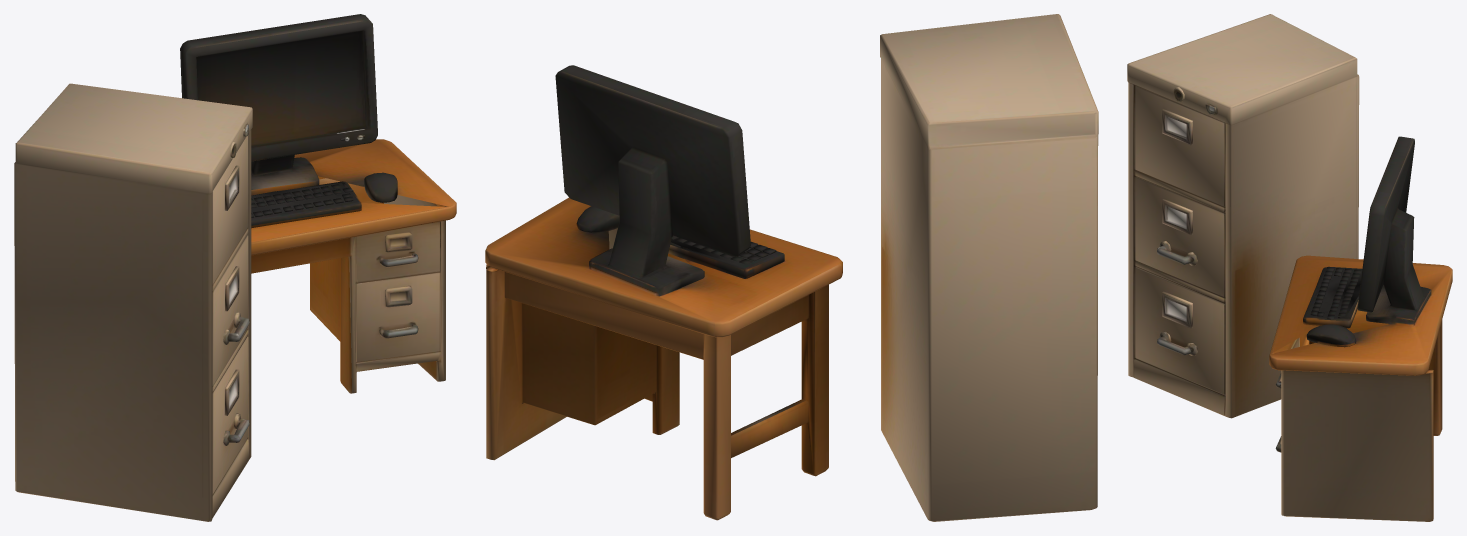
File: filing_cabinet_and_desk_with_computer_85ad453f_v3.glb
3 renders of one model, left to right at view 1: azimuth 30°, elevation 25°; view 2: azimuth 150°, elevation 25°; view 3: azimuth 270°, elevation 25°, orthographic. The views are drawn at different scales.
Visible parts, largest first — view 1: material; view 2: material; view 3: material.
Boxes of the visible parts, x1,y1,x2,y2 form: material: (14,14,456,521); material: (485,14,1098,521); material: (1127,14,1452,521).
Bounding box in the file's own units: 1.9 × 1.39 × 1.31.
1 material, 1 textured.
